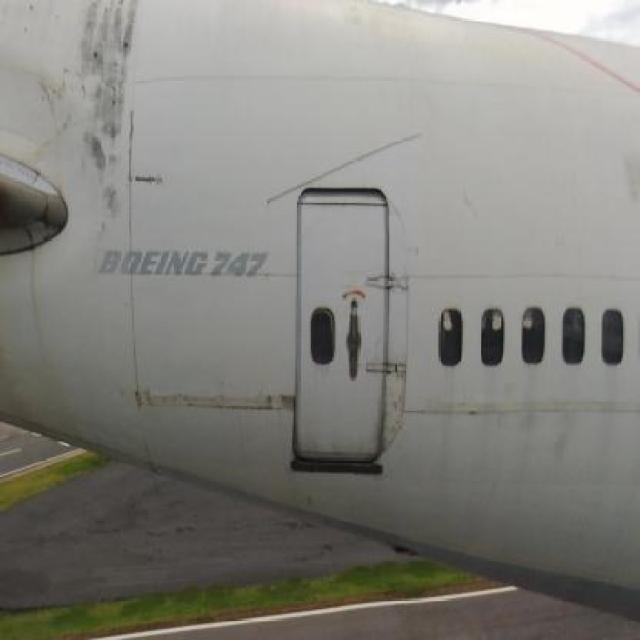Rust: (77, 1, 138, 221), (138, 375, 276, 428), (26, 57, 74, 172), (20, 255, 57, 390)
Scartch: (507, 388, 596, 468), (382, 369, 408, 454), (452, 168, 486, 226), (134, 158, 169, 190), (278, 385, 304, 423)
